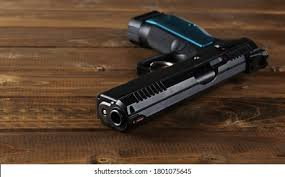gun: (79, 7, 276, 138)
